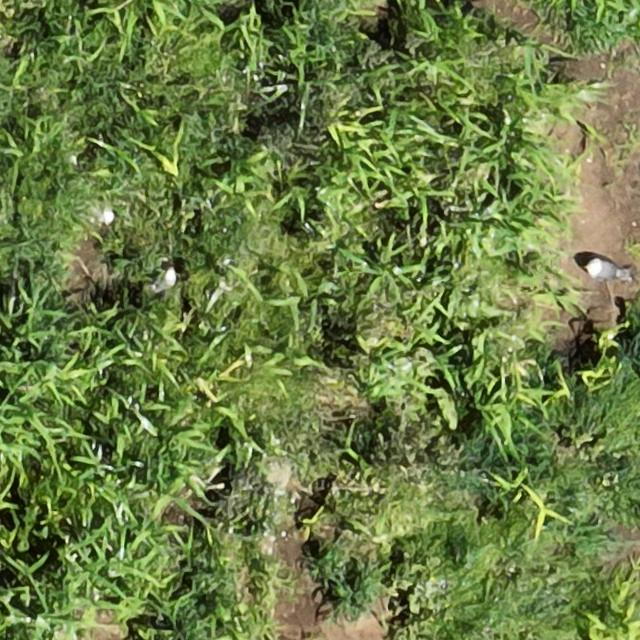umineko: (586, 260, 620, 280), (153, 268, 177, 291), (85, 205, 115, 222)
